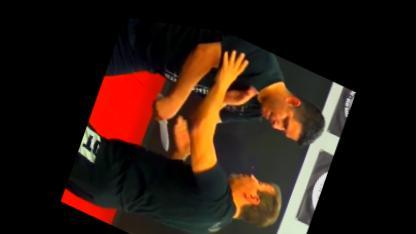knife: (140, 83, 186, 150)
